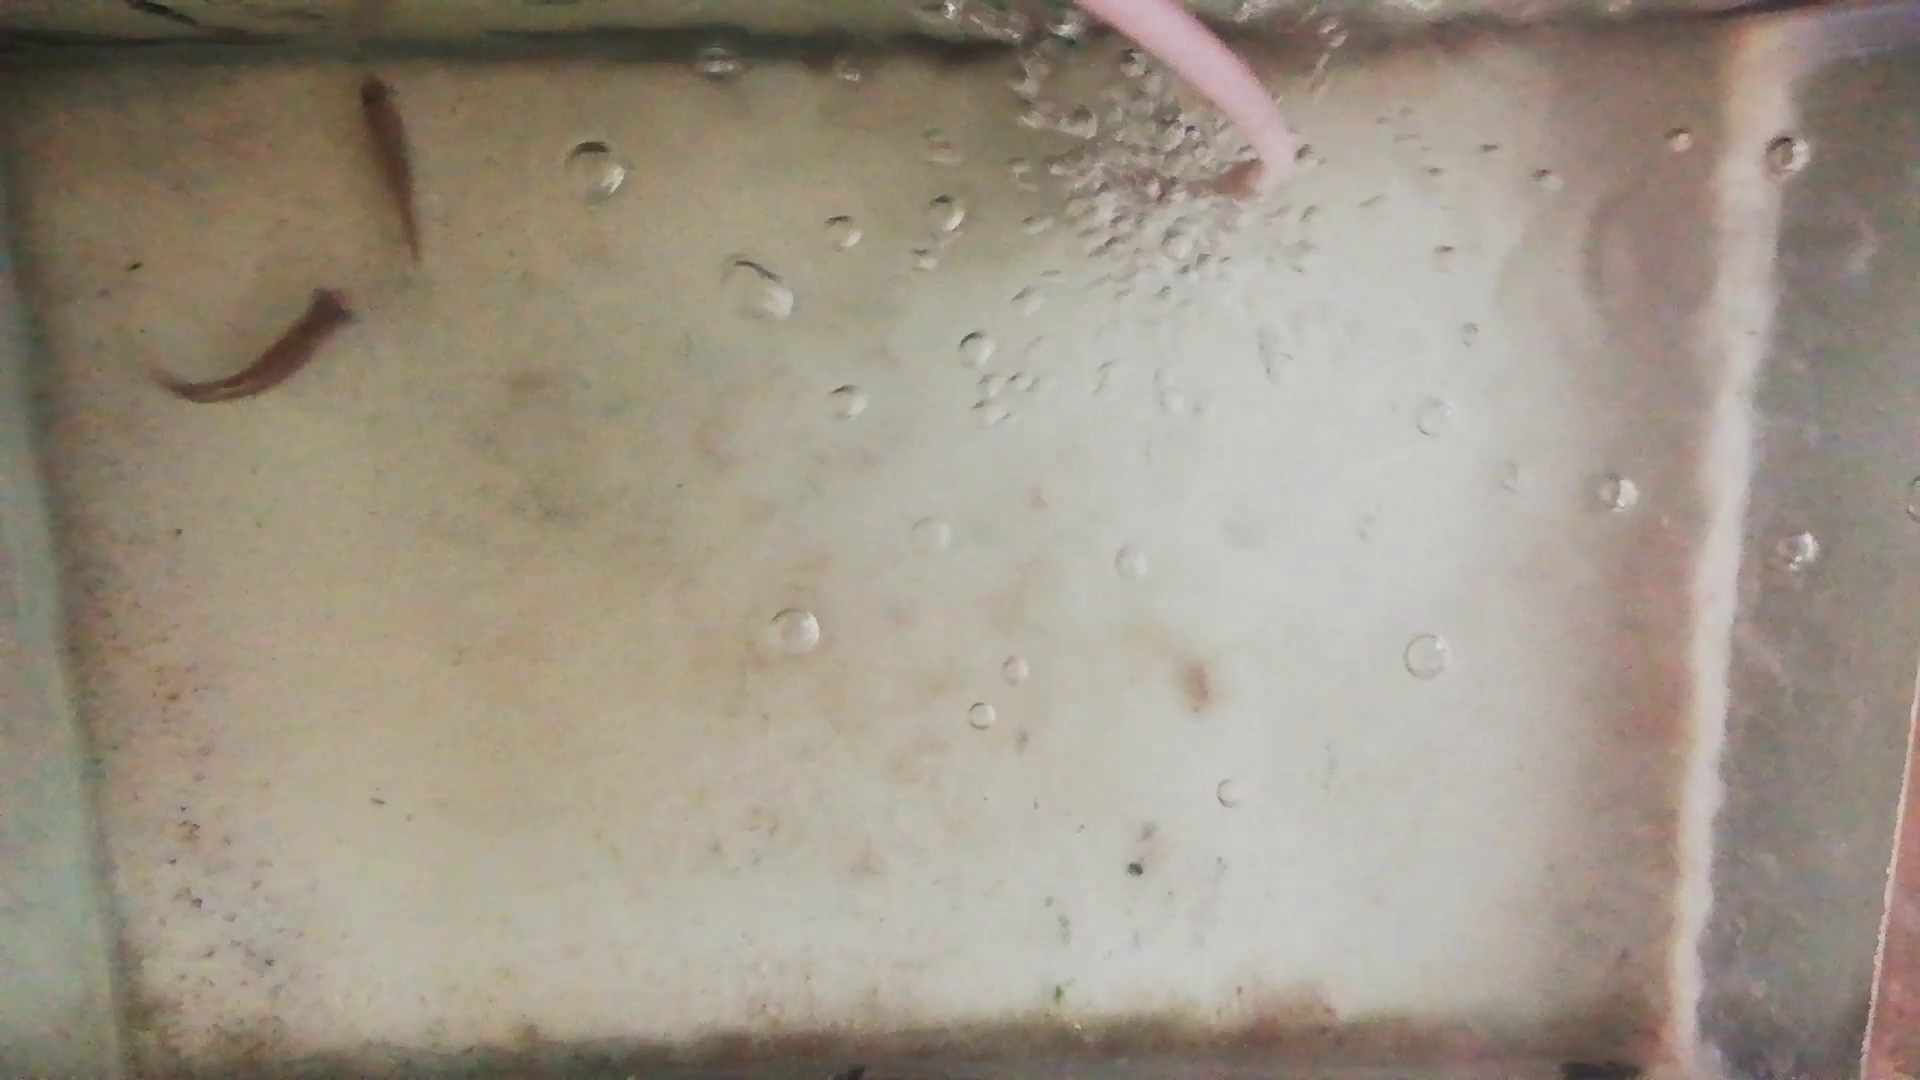fish: (152, 289, 352, 406), (356, 73, 422, 262)
